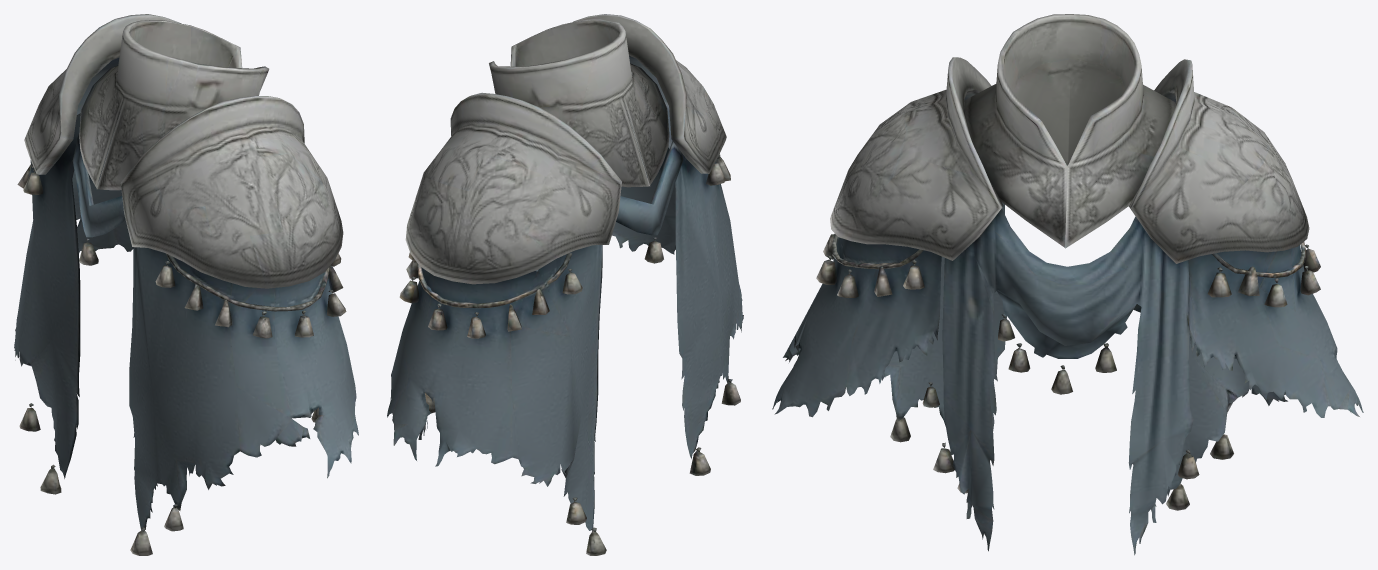
File: necro_mantle_mourner.glb
The picture shows the model from 3 angles, left to right: view 1: azimuth 30°, elevation 25°; view 2: azimuth 150°, elevation 25°; view 3: azimuth 270°, elevation 25°; orthographic projection. The views are drawn at different scales.
Visible parts, largest first — view 1: tripo_node_6e5a220b-a140-450c-ad29-7de79dca60c6; view 2: tripo_node_6e5a220b-a140-450c-ad29-7de79dca60c6; view 3: tripo_node_6e5a220b-a140-450c-ad29-7de79dca60c6.
Boxes of the visible parts, x1,y1,x2,y2 form: tripo_node_6e5a220b-a140-450c-ad29-7de79dca60c6: (14, 14, 358, 555); tripo_node_6e5a220b-a140-450c-ad29-7de79dca60c6: (387, 14, 743, 555); tripo_node_6e5a220b-a140-450c-ad29-7de79dca60c6: (772, 14, 1363, 555).
Bounding box in the file's own units: 0.459 × 0.9433 × 0.998.
1 material, 1 textured.
